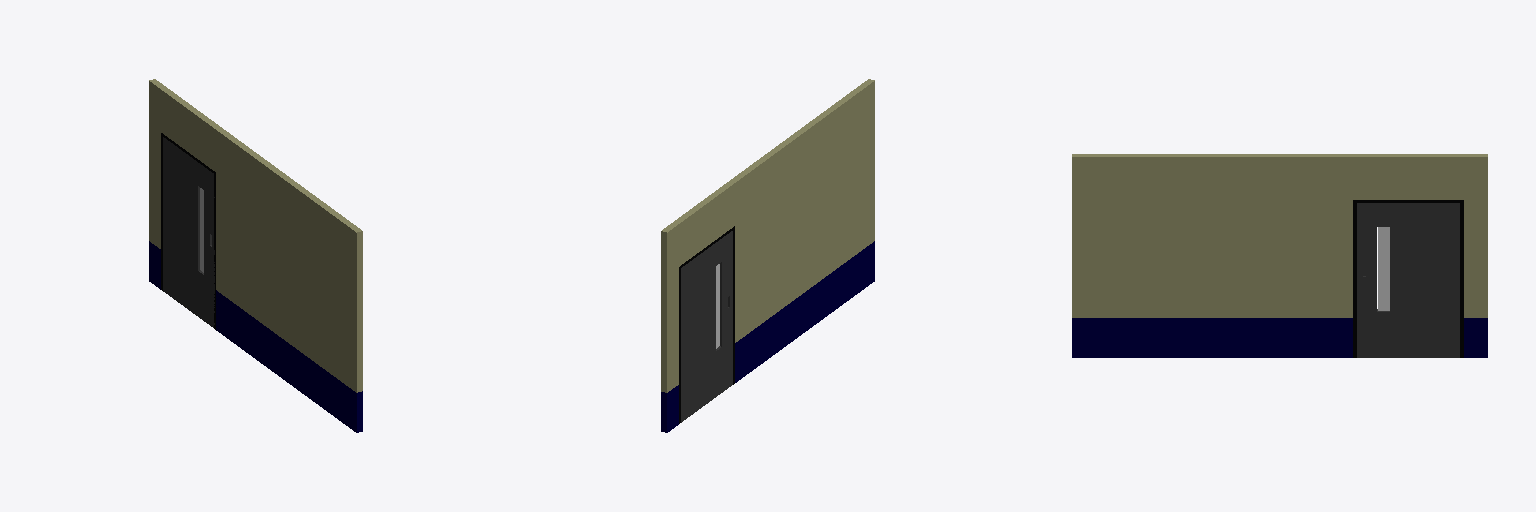
The model's file is wall_door.obj.
3 views of the same model, side by side, from view 1: azimuth 30°, elevation 25°; view 2: azimuth 150°, elevation 25°; view 3: azimuth 270°, elevation 25° (orthographic).
Parts seen in each view (by area): view 1: wall.001_Cube.003, door_Cube, Cube.001_Cube.004, door.001_Cube.002; view 2: wall.001_Cube.003, door_Cube, Cube.001_Cube.004, door.001_Cube.002; view 3: wall.001_Cube.003, door_Cube, Cube.001_Cube.004, door.001_Cube.002, glass_Cube.005.
Boxes of the visible parts, x1,y1,x2,y2 form: wall.001_Cube.003: [149, 79, 362, 392]; door_Cube: [163, 137, 214, 327]; Cube.001_Cube.004: [149, 241, 362, 432]; door.001_Cube.002: [161, 133, 215, 329]; wall.001_Cube.003: [661, 79, 874, 392]; door_Cube: [681, 231, 732, 422]; Cube.001_Cube.004: [661, 241, 874, 432]; door.001_Cube.002: [679, 226, 734, 423]; wall.001_Cube.003: [1072, 154, 1487, 317]; door_Cube: [1357, 203, 1459, 357]; Cube.001_Cube.004: [1072, 318, 1487, 357]; door.001_Cube.002: [1353, 200, 1463, 357]; glass_Cube.005: [1378, 227, 1389, 310].
Size of the model in its own units: 0.2065 by 5.98 by 11.25.